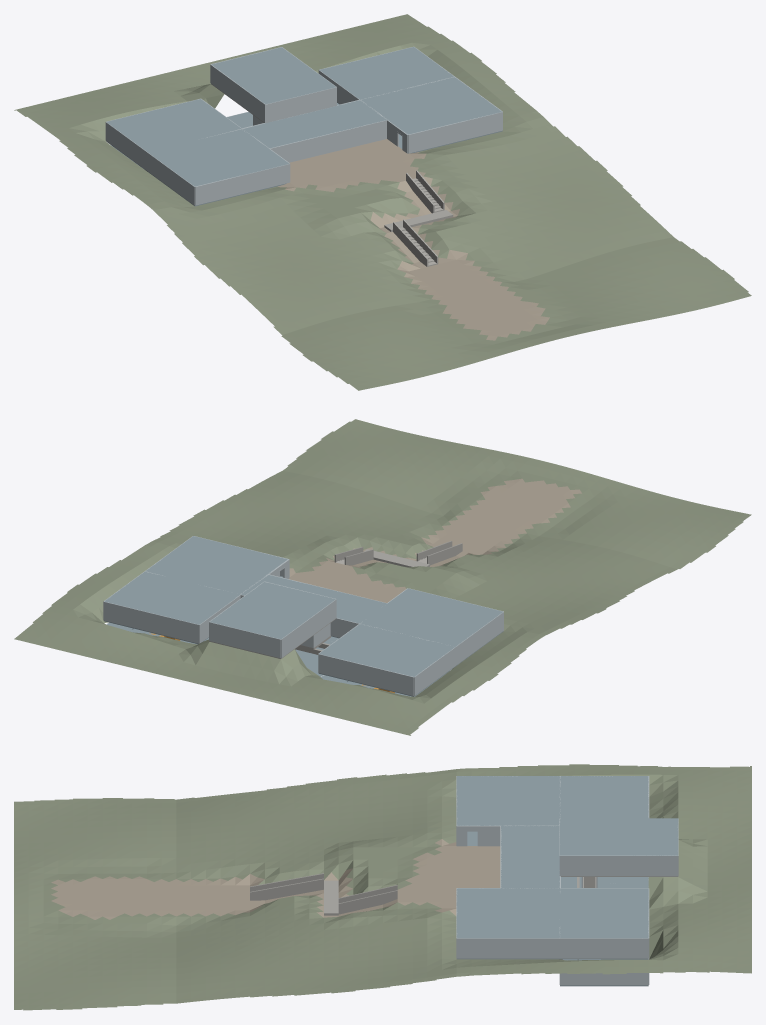
Rendered from upper-casemate-partitions.glb.
3 renders of one model, top to bottom at view 1: azimuth 30°, elevation 25°; view 2: azimuth 150°, elevation 25°; view 3: azimuth 270°, elevation 25°, orthographic. The views are drawn at different scales.
Parts seen in each view (by area): view 1: WLD-17 saved ground, Ceiling cap west, Ceiling cap east, Ceiling cap magazine, Ceiling cap service, Ceiling cap director, Ceiling cap gallery, Wall gallery S, Wall east S, Wall west S, Wall director S, Wall director W (+2 smaller); view 2: WLD-17 saved ground, Ceiling cap west, Ceiling cap east, Ceiling cap service, Ceiling cap director, Ceiling cap magazine, Wall service N, Wall magazine N, Ceiling cap gallery, Wall director N, Wall director W, Wall west W (+1 smaller); view 3: WLD-17 saved ground, Ceiling cap east, Ceiling cap west, Ceiling cap service, Ceiling cap director, Ceiling cap magazine, Ceiling cap gallery, Wall director E, Wall east E, Wall service E, Wall plant E, Battery route-02 east anchored parapet region0 (+5 smaller).
Boxes of the visible parts, box(x1,y1,x2,y2) form: WLD-17 saved ground: box(14, 14, 751, 390); Ceiling cap west: box(148, 129, 289, 186); Ceiling cap east: box(361, 77, 501, 134); Ceiling cap magazine: box(107, 99, 241, 151); Ceiling cap service: box(319, 47, 454, 99); Ceiling cap director: box(211, 47, 335, 104); Ceiling cap gallery: box(242, 100, 386, 148); Wall gallery S: box(269, 120, 386, 162); Wall east S: box(408, 112, 502, 153); Wall west S: box(195, 164, 289, 205); Wall director S: box(265, 87, 336, 122); Wall director W: box(210, 64, 265, 122); WLD-17 saved ground: box(14, 419, 751, 735); Ceiling cap west: box(360, 588, 502, 646); Ceiling cap east: box(145, 536, 287, 594); Ceiling cap service: box(104, 571, 240, 624); Ceiling cap director: box(210, 582, 335, 639); Ceiling cap magazine: box(319, 623, 454, 676); Wall service N: box(103, 601, 199, 643); Wall magazine N: box(318, 654, 413, 695); Ceiling cap gallery: box(241, 575, 386, 623); Wall director N: box(209, 622, 280, 658); Wall director W: box(281, 599, 336, 658); Wall west W: box(456, 611, 503, 665); WLD-17 saved ground: box(14, 764, 751, 1010); Ceiling cap east: box(456, 888, 559, 938); Ceiling cap west: box(456, 776, 559, 825); Ceiling cap service: box(560, 888, 648, 938); Ceiling cap director: box(560, 818, 678, 855); Ceiling cap magazine: box(560, 776, 648, 818); Ceiling cap gallery: box(501, 826, 559, 888); Wall director E: box(560, 855, 678, 876); Wall east E: box(456, 938, 559, 958); Wall service E: box(560, 938, 648, 958); Wall plant E: box(560, 973, 648, 985); Battery route-02 east anchored parapet region0: box(250, 878, 323, 900).
Bounding box in the file's own units: 68 × 10.65 × 100.
